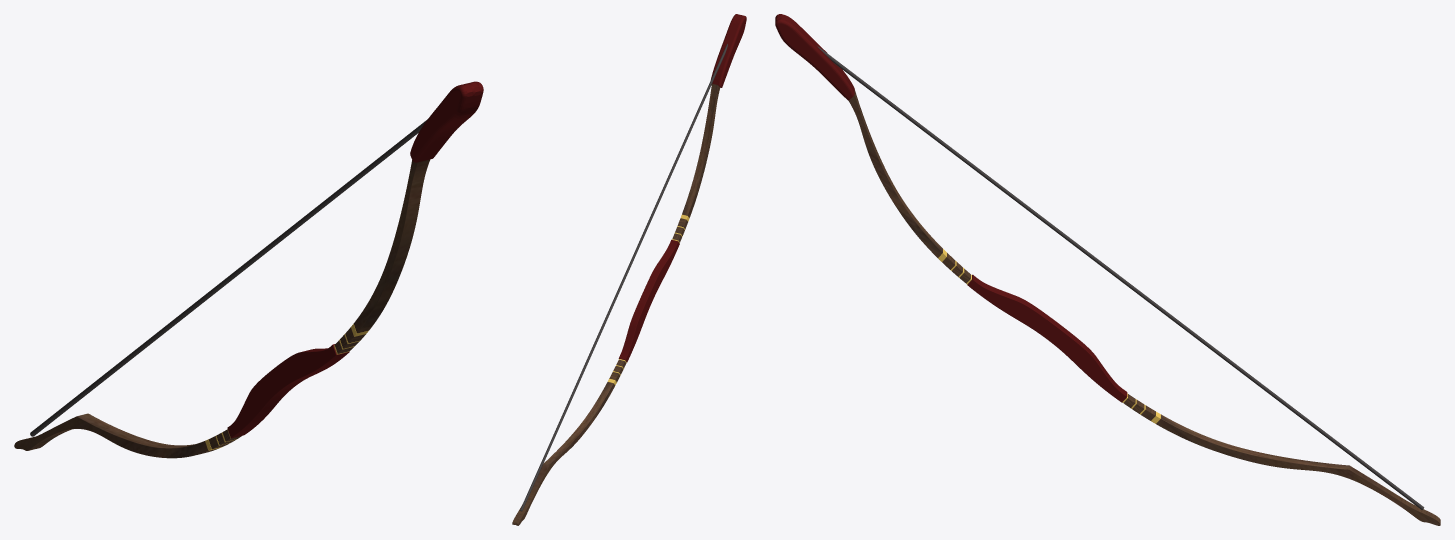
3 views of the same model, side by side, from view 1: azimuth 30°, elevation 25°; view 2: azimuth 150°, elevation 25°; view 3: azimuth 270°, elevation 25° (orthographic). The views are drawn at different scales.
Visible parts, largest first — view 1: Layer 02, Object_3, Layer 04, Object_15; view 2: Layer 02, Layer 04, Object_15, Object_3; view 3: Layer 02, Object_15, Layer 04, Object_3.
Part boxes in pixels (x1=…): Layer 02: x1=227, y1=81, x2=483, y2=438; Object_3: x1=353, y1=159, x2=430, y2=333; Layer 04: x1=30, y1=119, x2=427, y2=436; Object_15: x1=14, y1=413, x2=218, y2=458; Layer 02: x1=618, y1=14, x2=746, y2=362; Layer 04: x1=520, y1=44, x2=727, y2=511; Object_15: x1=512, y1=382, x2=614, y2=525; Object_3: x1=682, y1=83, x2=720, y2=217; Layer 02: x1=775, y1=14, x2=1127, y2=402; Object_15: x1=1156, y1=414, x2=1440, y2=525; Layer 04: x1=817, y1=46, x2=1424, y2=509; Object_3: x1=848, y1=89, x2=942, y2=257.
Size of the model in its own units: 28.8 by 1021 by 859.
4 materials, 1 textured.
